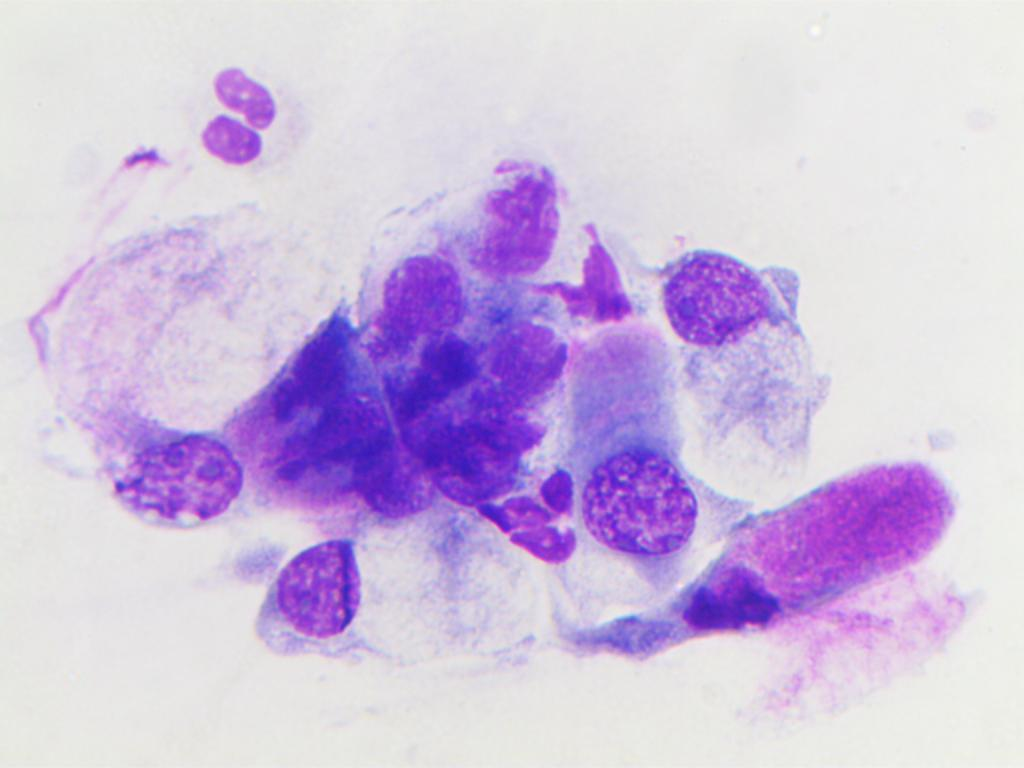artifact: (239, 316, 389, 461), (442, 158, 577, 282), (459, 468, 590, 565), (547, 213, 650, 328)
ciliated: (560, 306, 696, 568)
epithelial: (351, 245, 481, 354), (411, 394, 522, 507), (480, 303, 572, 418), (352, 428, 446, 524)
goblet_cell: (34, 282, 288, 529), (668, 454, 960, 642), (661, 242, 832, 458), (244, 527, 442, 666)
neutrophil: (190, 57, 306, 181)
